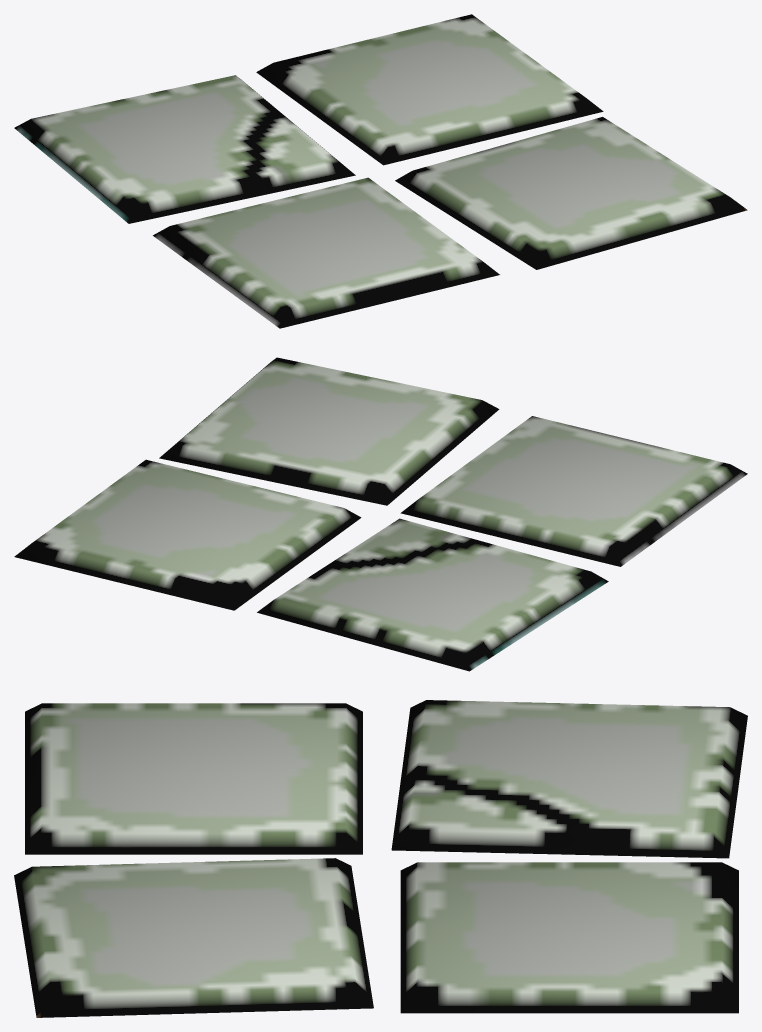
The model's file is deco_floorTilesBigScattered.FBX.
The picture shows the model from 3 angles, top to bottom: view 1: azimuth 30°, elevation 25°; view 2: azimuth 150°, elevation 25°; view 3: azimuth 270°, elevation 25°; orthographic projection. The views are drawn at different scales.
Parts seen in each view (by area): view 1: deco_floorTilesBigScattered; view 2: deco_floorTilesBigScattered; view 3: deco_floorTilesBigScattered.
Boxes of the visible parts, box(x1,y1,x2,y2) form: deco_floorTilesBigScattered: box(14, 14, 747, 328); deco_floorTilesBigScattered: box(14, 357, 747, 671); deco_floorTilesBigScattered: box(14, 700, 747, 1017).
Size of the model in its own units: 1.95 by 0.045 by 1.95.
Materials: 1 (1 with a texture image).
